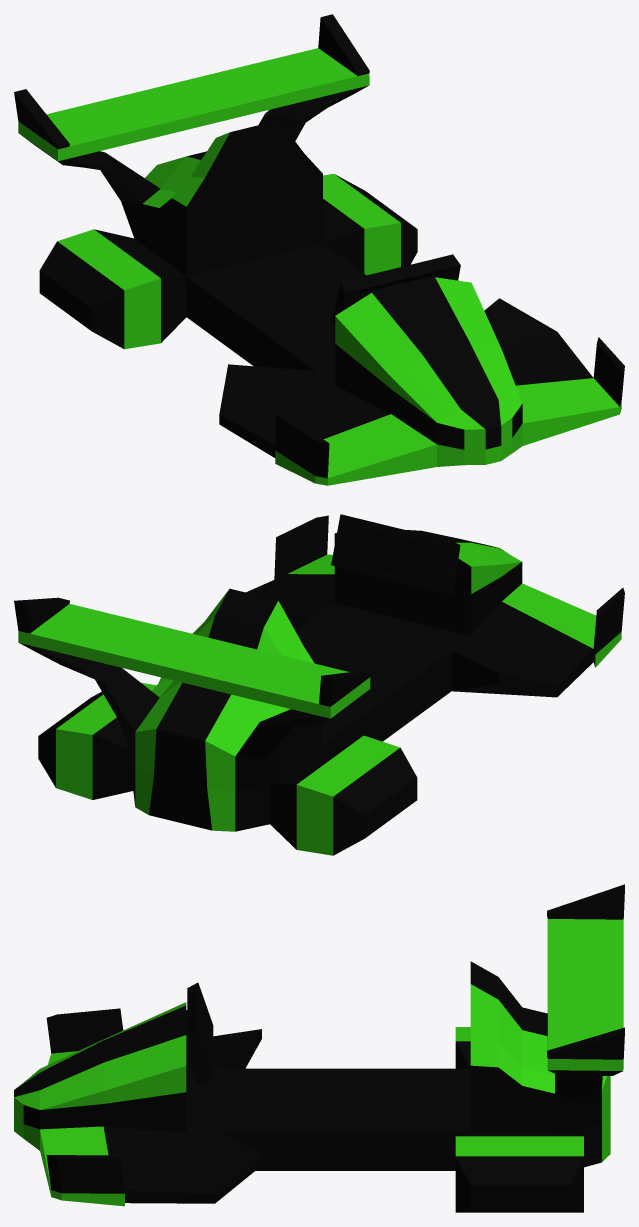
File: F1_Water.fbx
3 views of the same model, one above another, from view 1: azimuth 30°, elevation 25°; view 2: azimuth 150°, elevation 25°; view 3: azimuth 270°, elevation 25° (orthographic). The views are drawn at different scales.
Parts seen in each view (by area): view 1: F1_Water; view 2: F1_Water; view 3: F1_Water.
Part boxes in pixels (<box>): F1_Water: <box>14,14,624,485</box>; F1_Water: <box>14,514,624,855</box>; F1_Water: <box>14,884,624,1212</box>.
Size of the model in its own units: 95.84 by 157 by 54.4.
